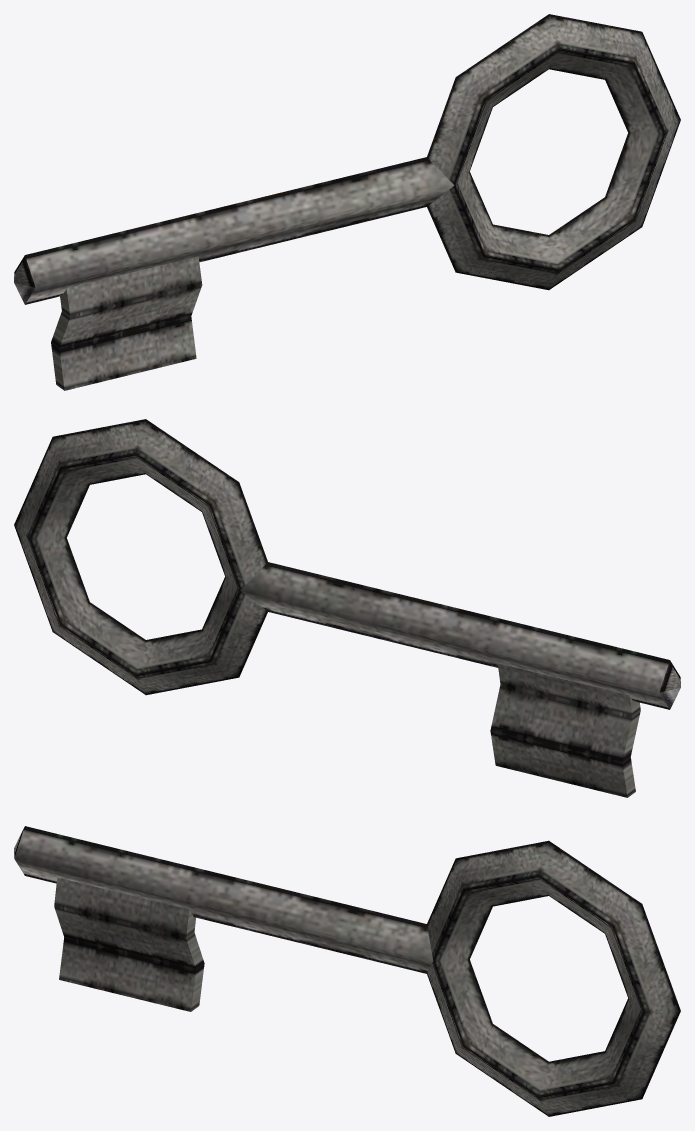
Rendered from ItKe_Key_01.fbx.
3 views of the same model, one above another, from view 1: azimuth 30°, elevation 25°; view 2: azimuth 150°, elevation 25°; view 3: azimuth 330°, elevation 25° (orthographic).
Visible parts, largest first — view 1: Cylinder01; view 2: Cylinder01; view 3: Cylinder01.
Boxes of the visible parts, left/top/right/bottom form: Cylinder01: left=14, top=14, right=680, bottom=390; Cylinder01: left=14, top=419, right=680, bottom=797; Cylinder01: left=14, top=826, right=680, bottom=1116.
Size of the model in its own units: 25.27 by 10 by 1.41.
